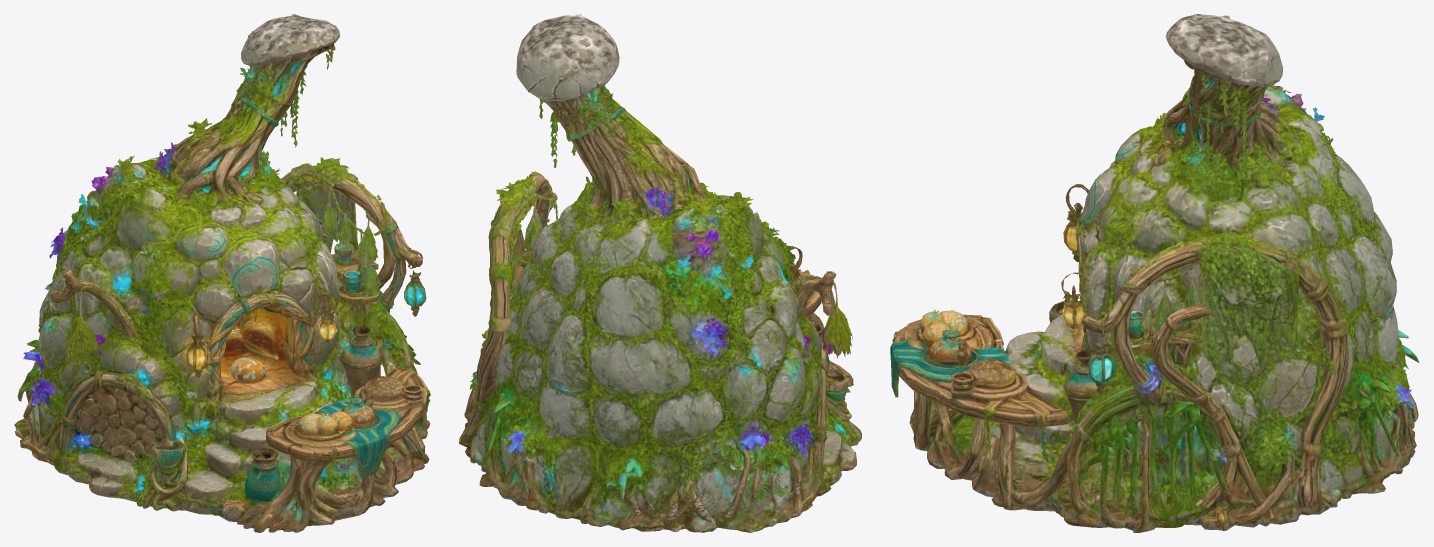
Rendered from village-bakery-oven.glb.
3 renders of one model, left to right at view 1: azimuth 30°, elevation 25°; view 2: azimuth 150°, elevation 25°; view 3: azimuth 270°, elevation 25°, orthographic. The views are drawn at different scales.
Size of the model in its own units: 1.67 by 1.83 by 1.89.
Materials: 1 (1 with a texture image).
